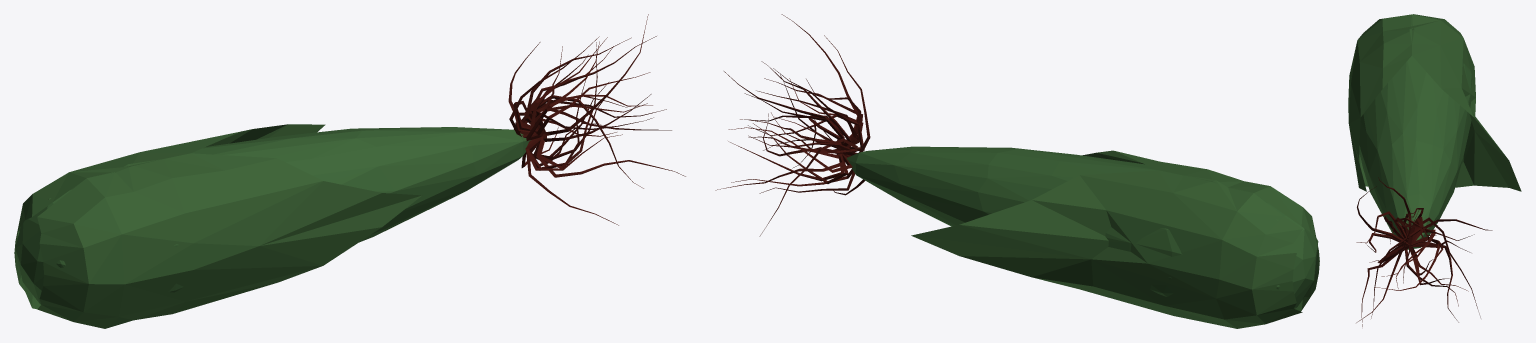
Rendered from MaizeEar.obj.
3 views of the same model, side by side, from view 1: azimuth 30°, elevation 25°; view 2: azimuth 150°, elevation 25°; view 3: azimuth 270°, elevation 25° (orthographic). The views are drawn at different scales.
Parts seen in each view (by area): view 1: fruit; view 2: fruit; view 3: fruit.
Boxes of the visible parts, x1,y1,x2,y2 form: fruit: (14,14,685,328); fruit: (715,14,1319,328); fruit: (1348,14,1521,326).
Size of the model in its own units: 1.14 by 0.3333 by 0.337.
